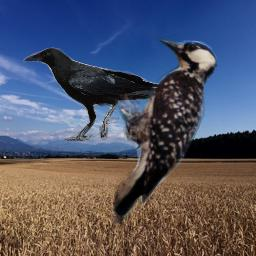Crow: (23, 46, 180, 141)
Woodpecker: (107, 35, 230, 231)
